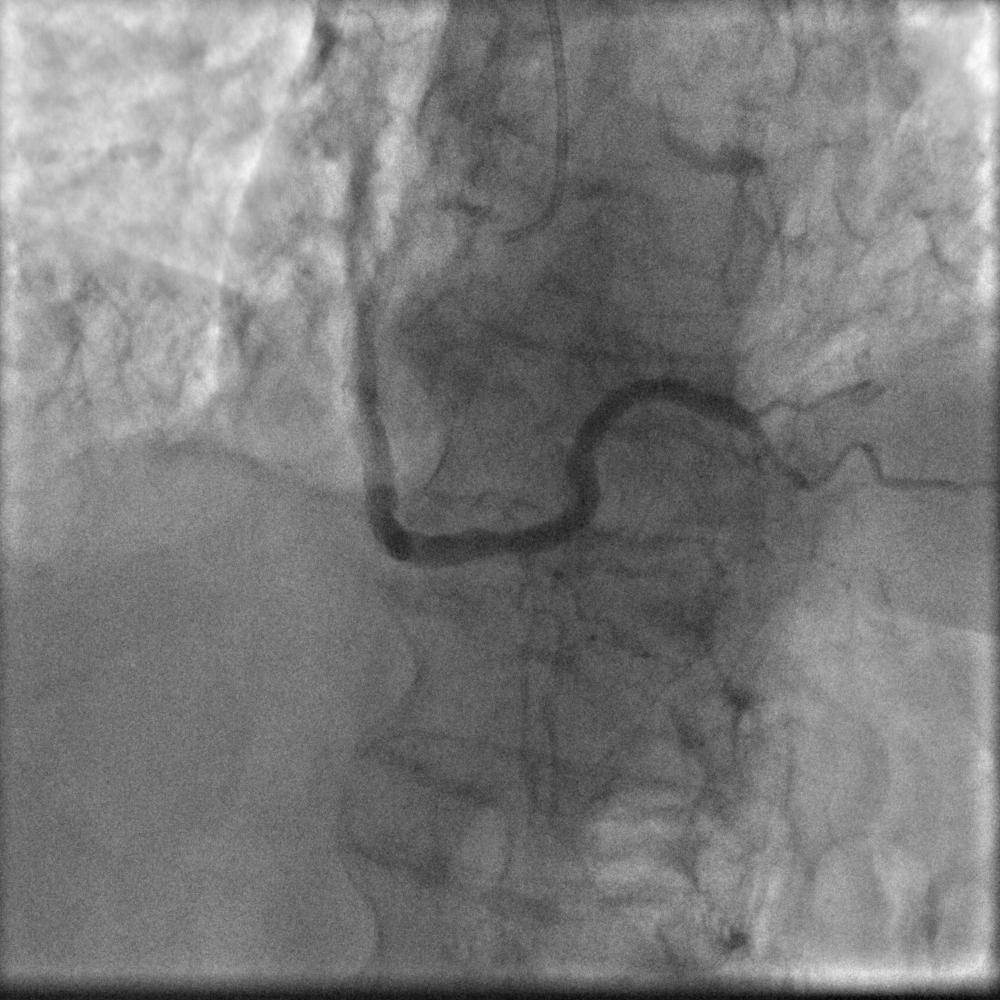Stenosis: (751, 403, 796, 490)
